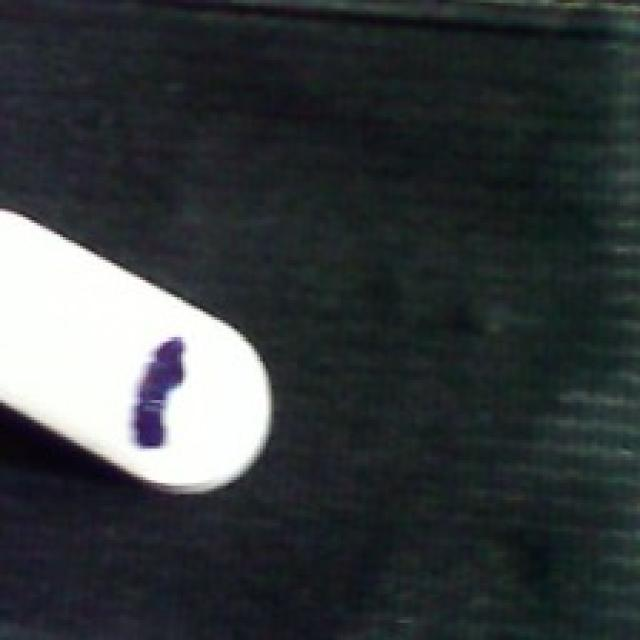defected: (0, 199, 280, 494)
